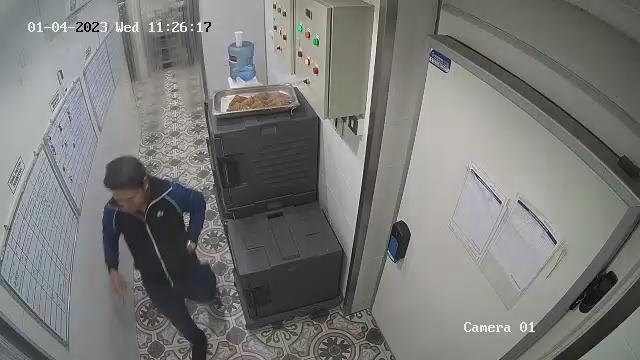no_apron: (112, 185, 204, 289)
